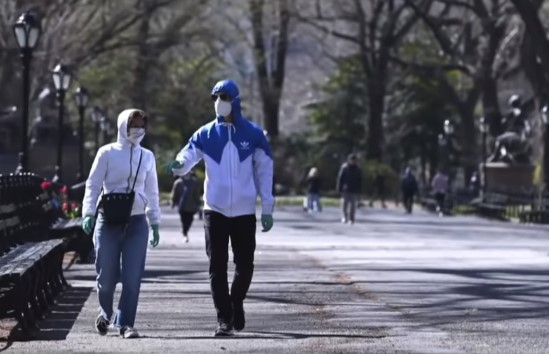face_with_mask: (115, 107, 151, 149), (210, 78, 243, 122)
